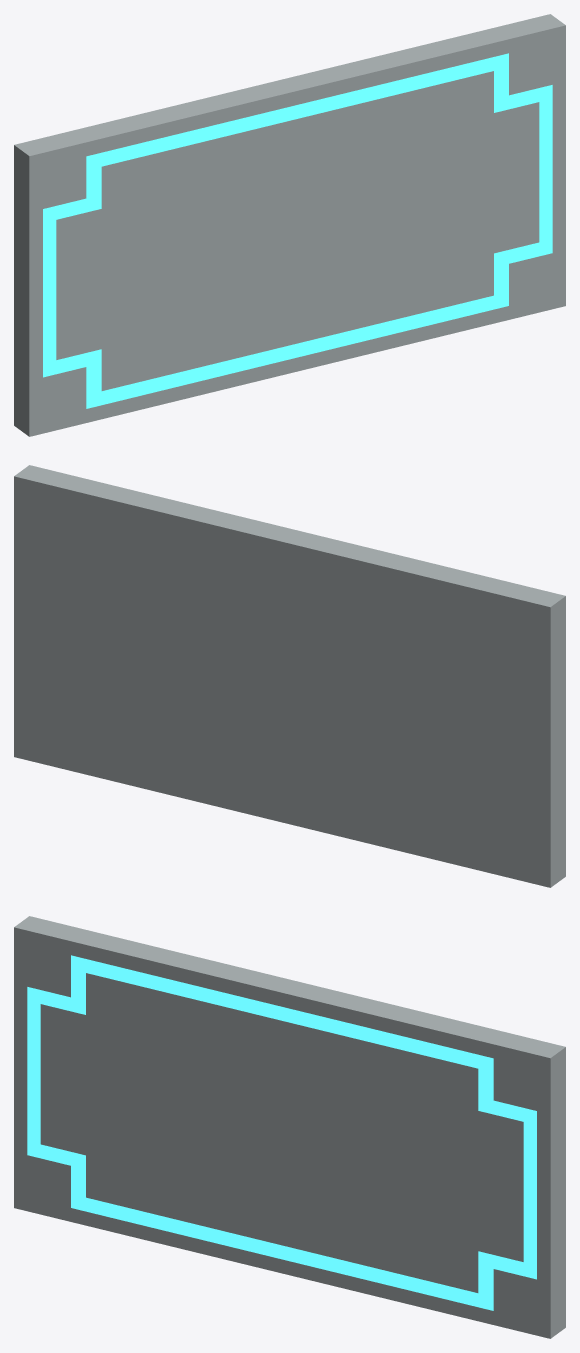
The model's file is SignBacking.fbx.
3 views of the same model, one above another, from view 1: azimuth 30°, elevation 25°; view 2: azimuth 150°, elevation 25°; view 3: azimuth 330°, elevation 25° (orthographic).
Visible parts, largest first — view 1: SignBacking; view 2: SignBacking; view 3: SignBacking.
Part boxes in pixels (x1,y1,x2,y2): SignBacking: [14, 14, 565, 436]; SignBacking: [14, 465, 565, 887]; SignBacking: [14, 916, 565, 1338].
Size of the model in its own units: 200 by 100 by 10.
